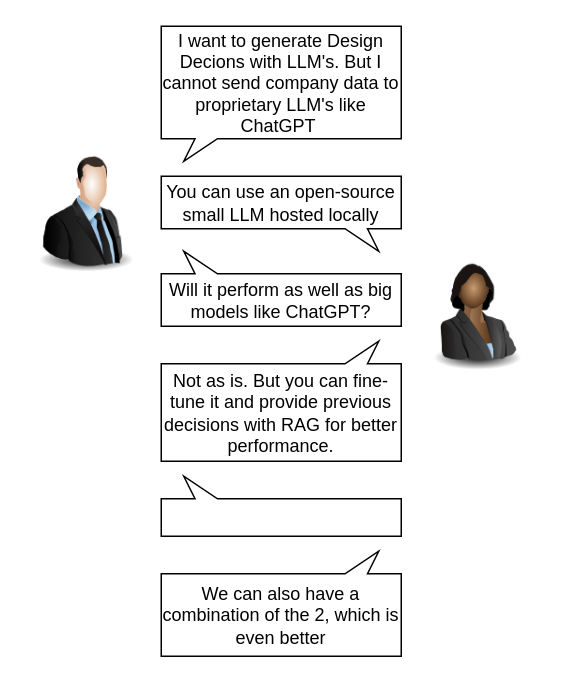
Some shapes in this 561 by 683 pixel diagram are drawn without their labels. The shapes that lost their labels are listed below. From the top down, each one's centre as x and y in pixels, then its label:
point (86, 213): Babbage (Software Architect)
point (476, 310): Ada (ML Engineer)
point (280, 505): Oh, that sounds great!
